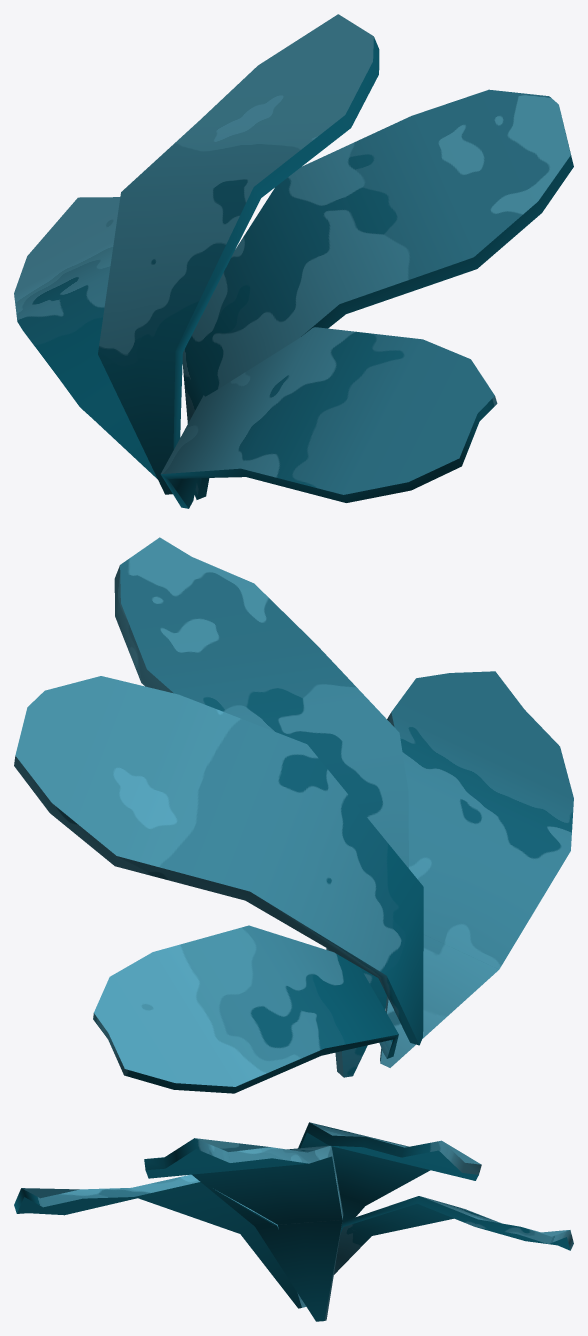
Rendered from maviot3.fbx.
The picture shows the model from 3 angles, top to bottom: view 1: azimuth 30°, elevation 25°; view 2: azimuth 150°, elevation 25°; view 3: azimuth 270°, elevation 25°; orthographic projection. The views are drawn at different scales.
Visible parts, largest first — view 1: ot3.005; view 2: ot3.005; view 3: ot3.005.
Boxes of the visible parts, box(x1,y1,x2,y2) form: ot3.005: box(14, 14, 573, 508); ot3.005: box(14, 537, 573, 1093); ot3.005: box(14, 1122, 573, 1321).
Bounding box in the file's own units: 2.99 × 2.93 × 5.34.
Materials: 1 (1 with a texture image).
